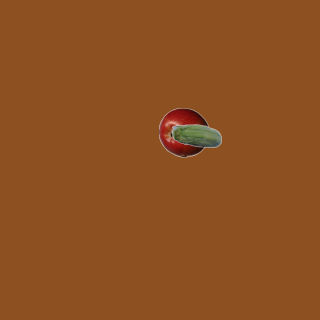Apple Braeburn: (158, 107, 208, 157)
Corn Husk: (171, 112, 221, 162)
